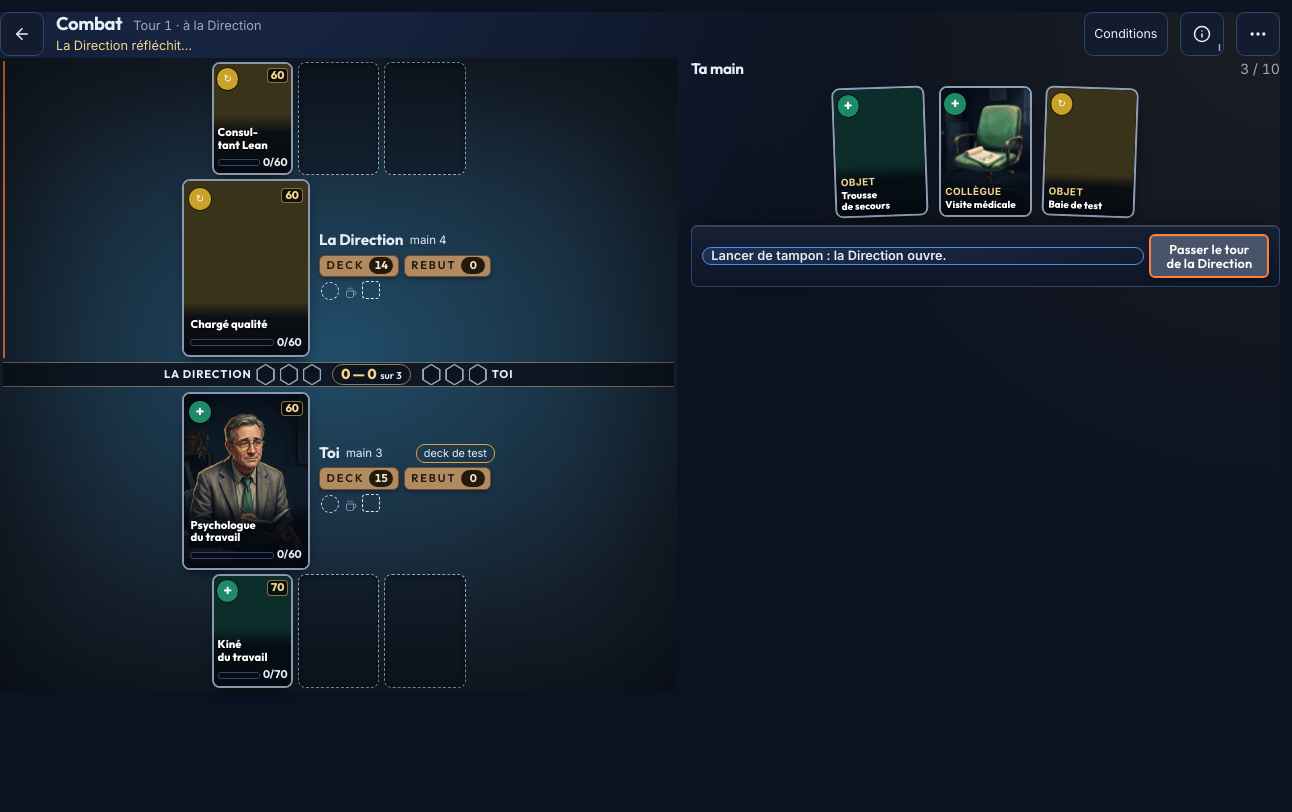
Test case: Battle — écran de combat › range Journal, Partie à deux, Règles, Abandonner et Nouveau combat derrière un seul bouton
Expected: the button "Journal" is not shown
Expected: the button "Partie à deux" is not shown
Click the button named "Menu du combat" at (1258, 34), box 1236,12 -> 1280,56
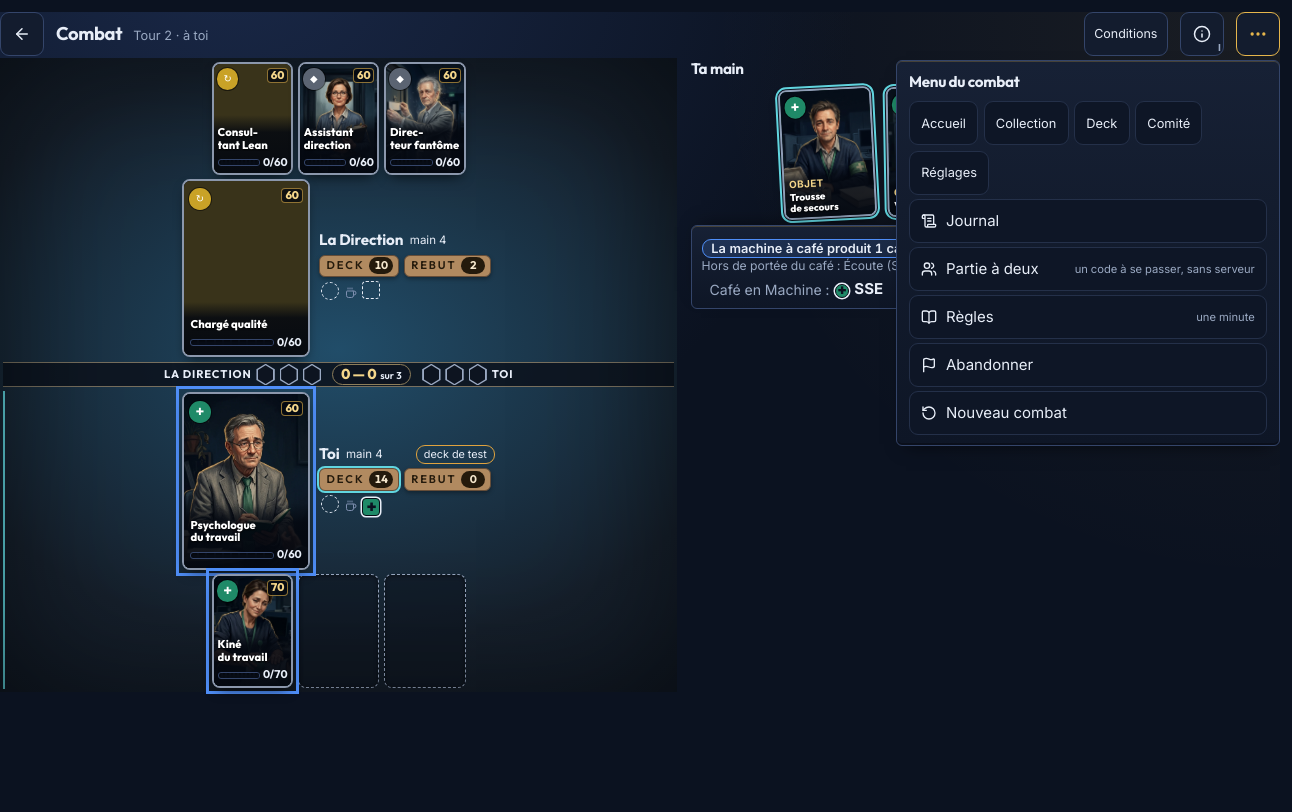
Expected: the button "Journal" is shown, 909,199 -> 1267,243
Expected: the button "Partie à deux un code à se passer, sans serveur" is shown, 909,247 -> 1267,291
Expected: the button "Règles une minute" is shown, 909,295 -> 1267,339
